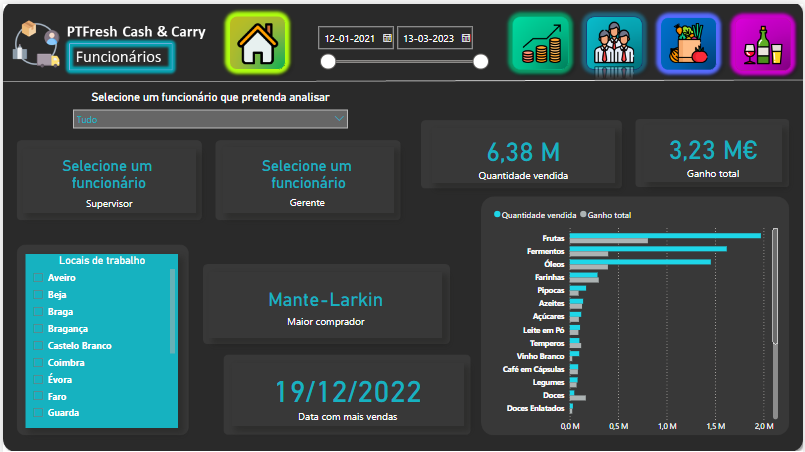

The dashboard page shown, as its layout file describes it:
{"tool":"powerbi","page":{"name":"Funcionários","canvas":[1280,720],"ordinal":2},"visuals":[{"type":"slicer","title":"Selecione um funcionário que pretenda analisar","fields":{"Values":["Funcionários.Nome Vendedor"]},"box":[102.9,138.6,459.7,63.1],"z":0},{"type":"slicer","title":"Locais de trabalho","fields":{"Values":["Vendas.Cidade"]},"box":[36.1,399.2,244.4,278.8],"z":1000},{"type":"card","title":"Preço Unitário Mínimo","fields":{"Values":["Medidas.Quantidade vendida"]},"box":[685.2,197.3,293.7,88.6],"z":2000},{"type":"card","title":"Preço Unitário Mínimo","fields":{"Values":["Medidas.Total Vendas"]},"box":[1025.5,194.2,220.6,90.1],"z":3000},{"type":"clusteredBarChart","fields":{"Category":["Vendas.Categoria Produto"],"Y":["Medidas.Quantidade vendida","Medidas.Ganho total"]},"box":[780.8,315.6,465.2,377.4],"z":4000},{"type":"card","fields":{"Values":["Medidas.Supervisor Selecionado"]},"box":[31.6,231.9,275.8,101.5],"z":5000},{"type":"card","fields":{"Values":["Medidas.Gerente Selecionado"]},"box":[351.3,227.8,274.4,107],"z":6000},{"type":"image","box":[365.5,26.2,83.3,75],"z":7000},{"type":"card","title":"Preço Unitário Mínimo","fields":{"Values":["Medidas.Maior comprador"]},"box":[331,427.3,372.9,107.2],"z":8000},{"type":"slicer","fields":{"Values":["Datas_venda.Data Venda"]},"box":[492.6,12.3,293.7,102.9],"z":9000},{"type":"card","fields":{"Values":["Medidas.Data com mais vendas"]},"box":[365.1,574.9,371.4,101],"z":10000},{"type":"image","box":[1179.8,29.8,72.6,71.4],"z":11000},{"type":"image","box":[1060.1,24.1,74,77.4],"z":12000},{"type":"image","box":[825.1,23.3,71.5,79.2],"z":13000}]}

Visuals, with their boxes in screenshot pixels (x1, y1, x2, y2), scaled from the page's 1280x720 canvas onto the 805x452 screenshot:
"Selecione um funcionário que pretenda analisar" slicer: x1=65 y1=87 x2=354 y2=127
"Locais de trabalho" slicer: x1=23 y1=251 x2=176 y2=426
"Preço Unitário Mínimo" card: x1=431 y1=124 x2=616 y2=179
"Preço Unitário Mínimo" card: x1=645 y1=122 x2=784 y2=178
clusteredBarChart - Vendas.Categoria Produto x Medidas.Quantidade vendida: x1=491 y1=198 x2=784 y2=435
card - Medidas.Supervisor Selecionado: x1=20 y1=146 x2=193 y2=209
card - Medidas.Gerente Selecionado: x1=221 y1=143 x2=394 y2=210
image: x1=230 y1=16 x2=282 y2=64
"Preço Unitário Mínimo" card: x1=208 y1=268 x2=443 y2=336
slicer - Datas_venda.Data Venda: x1=310 y1=8 x2=495 y2=72
card - Medidas.Data com mais vendas: x1=230 y1=361 x2=463 y2=424
image: x1=742 y1=19 x2=788 y2=64
image: x1=667 y1=15 x2=713 y2=64
image: x1=519 y1=15 x2=564 y2=64
